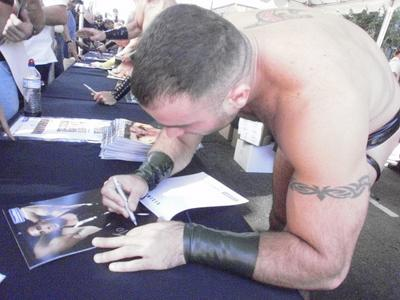person: (93, 4, 400, 292)
